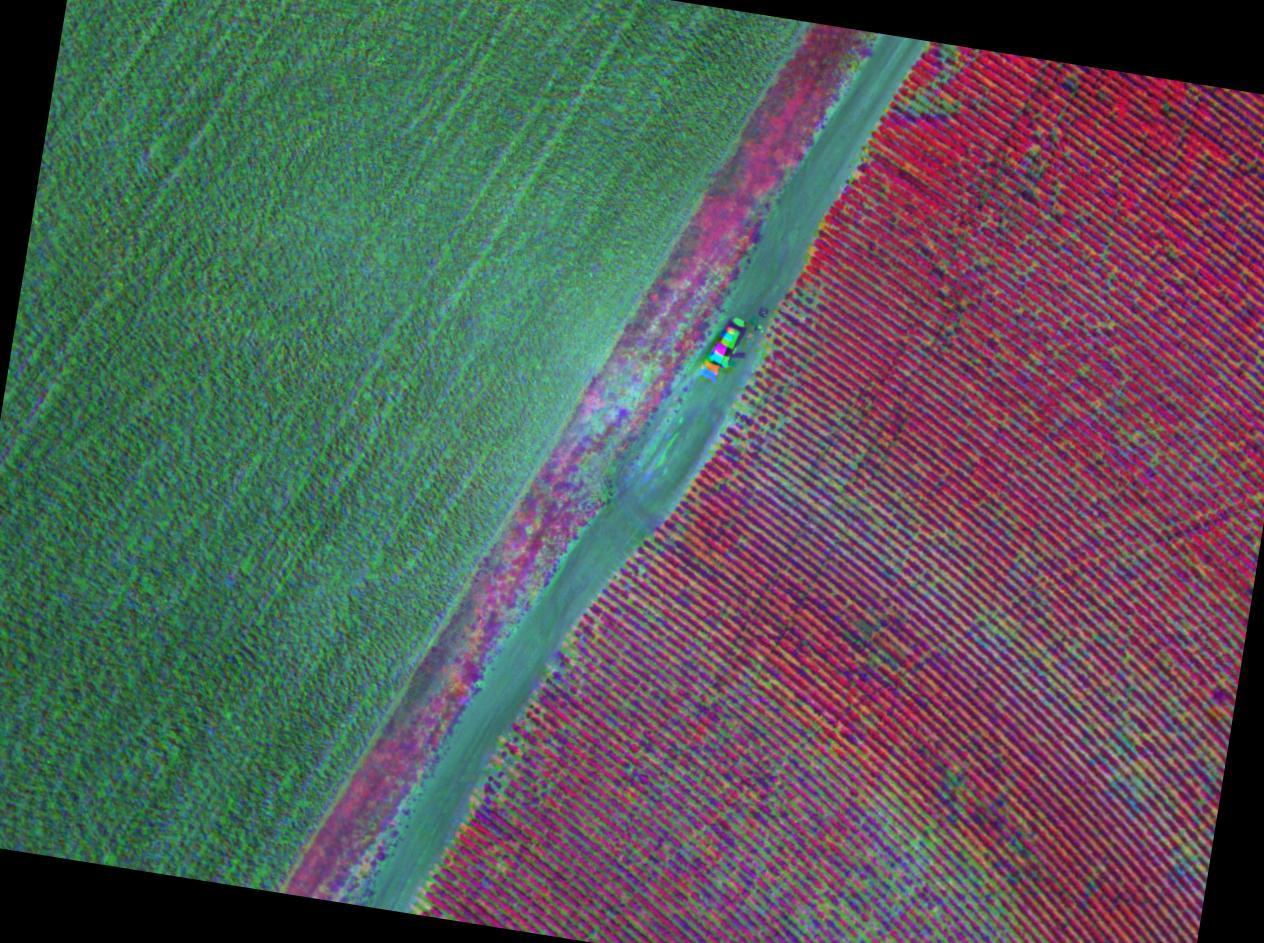dc: (866, 875, 875, 885), (569, 648, 578, 657), (1033, 146, 1040, 154), (1125, 654, 1132, 662), (911, 839, 917, 847), (823, 902, 829, 909)
